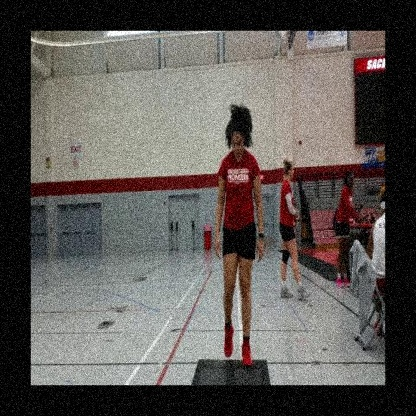lateral_flexion_normal: (214, 103, 266, 371)
stance_width_narrow: (214, 147, 266, 367)
